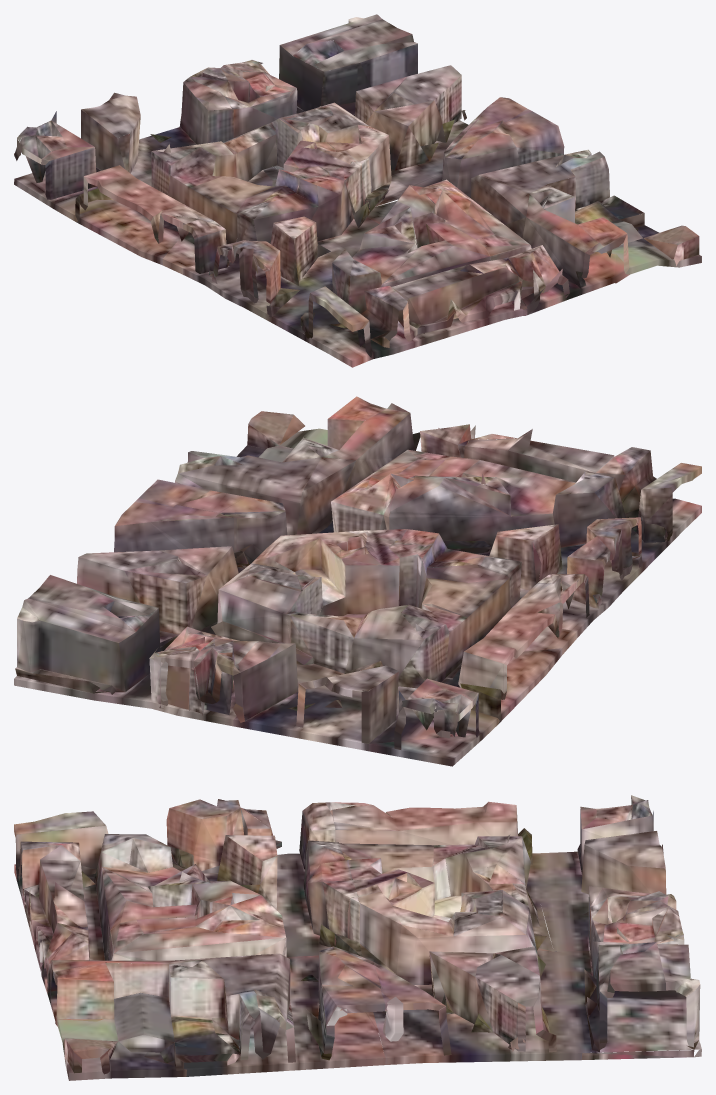
3 views of the same model, one above another, from view 1: azimuth 30°, elevation 25°; view 2: azimuth 150°, elevation 25°; view 3: azimuth 270°, elevation 25° (orthographic). The views are drawn at different scales.
Visible parts, largest first — view 1: Mesh_0; view 2: Mesh_0; view 3: Mesh_0.
Part boxes in pixels (<box>): Mesh_0: <box>14,14,701,367</box>; Mesh_0: <box>14,396,701,766</box>; Mesh_0: <box>14,795,701,1080</box>.
Size of the model in its own units: 266 by 47.33 by 330.
Materials: 2 (2 with a texture image).
